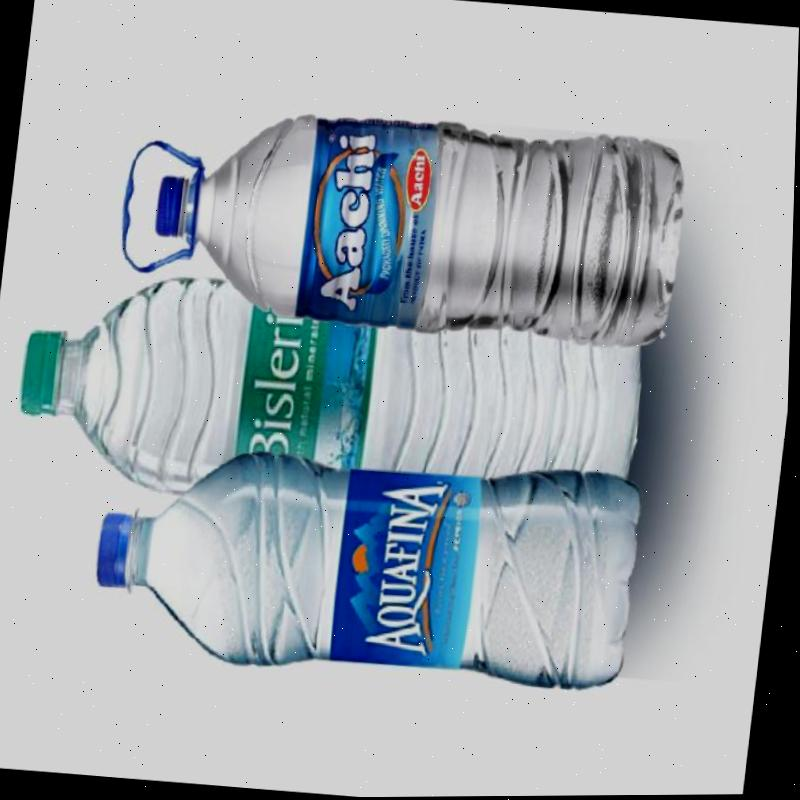botella: (12, 245, 662, 533), (88, 427, 662, 703), (141, 95, 697, 354)
